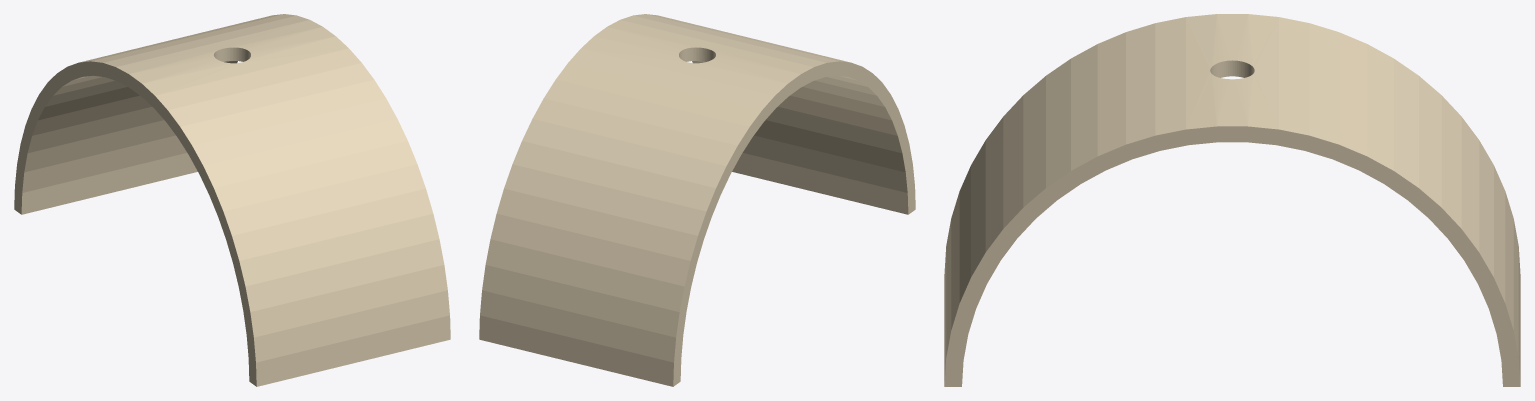
The model's file is main-bearing-upper.glb.
3 views of the same model, side by side, from view 1: azimuth 30°, elevation 25°; view 2: azimuth 150°, elevation 25°; view 3: azimuth 270°, elevation 25° (orthographic). The views are drawn at different scales.
Parts seen in each view (by area): view 1: world; view 2: world; view 3: world.
Part boxes in pixels (bbox=[...]): world: bbox=[14, 14, 450, 386]; world: bbox=[479, 14, 915, 386]; world: bbox=[944, 14, 1520, 386].
Size of the model in its own units: 0.03 by 0.0324 by 0.0649.
